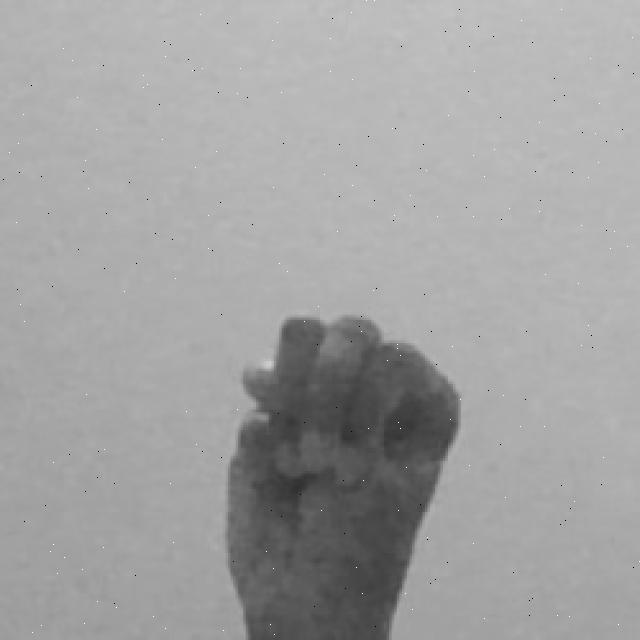M: (220, 304, 467, 640)
